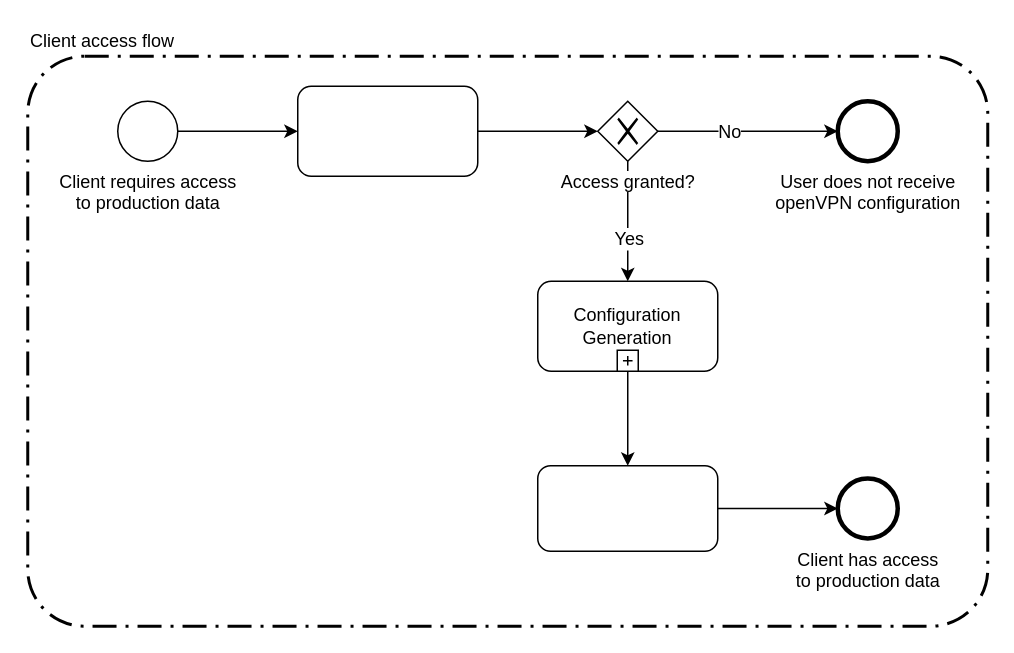
This 1014x653 diagram has some shape labels left out. Here are the shapes that lost their labels. From the top down, the centre of each, then its label:
the point at 387,130: Access request is escalated to team lead / CTO
the point at 627,507: Client uses configuration to establish openVPN connection
